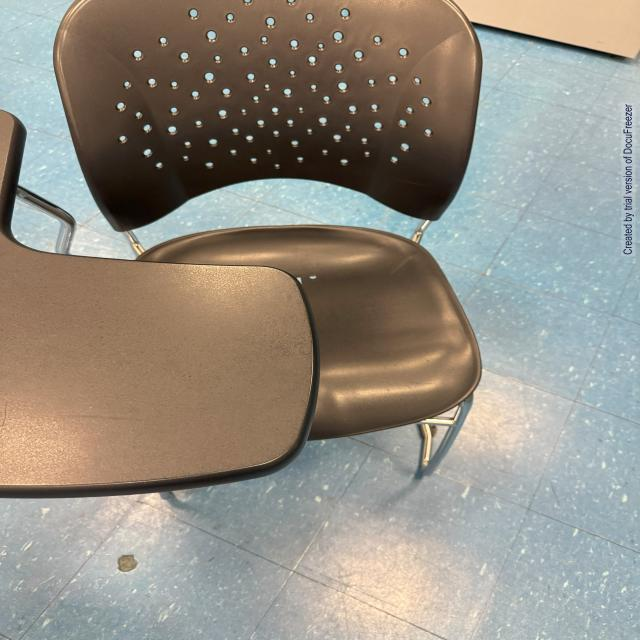chair: (2, 0, 508, 547)
